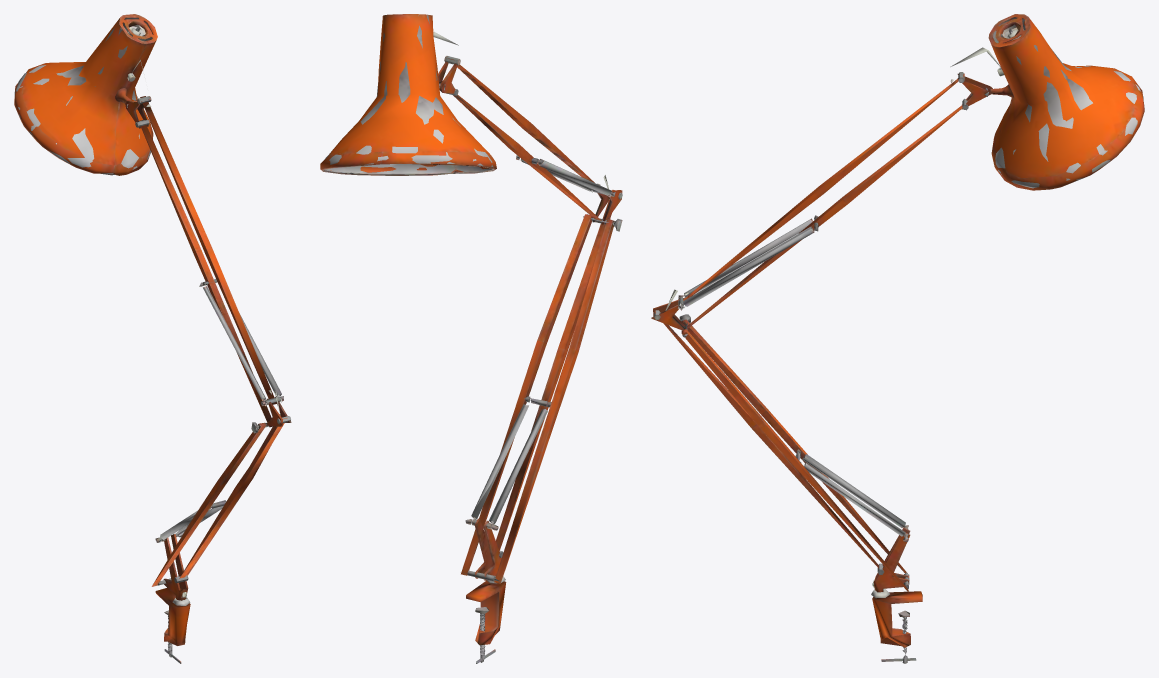
Rendered from desk_lamp_arm_01.glb.
3 views of the same model, side by side, from view 1: azimuth 30°, elevation 25°; view 2: azimuth 150°, elevation 25°; view 3: azimuth 270°, elevation 25° (orthographic). The views are drawn at different scales.
Visible parts, largest first — view 1: desk_lamp_arm_01; view 2: desk_lamp_arm_01; view 3: desk_lamp_arm_01.
Boxes of the visible parts, x1=… form: desk_lamp_arm_01: x1=14, y1=14, x2=291, y2=663; desk_lamp_arm_01: x1=320, y1=14, x2=622, y2=663; desk_lamp_arm_01: x1=651, y1=14, x2=1144, y2=663.
Bounding box in the file's own units: 0.2017 × 0.8926 × 0.6132.
2 materials, 2 textured.
